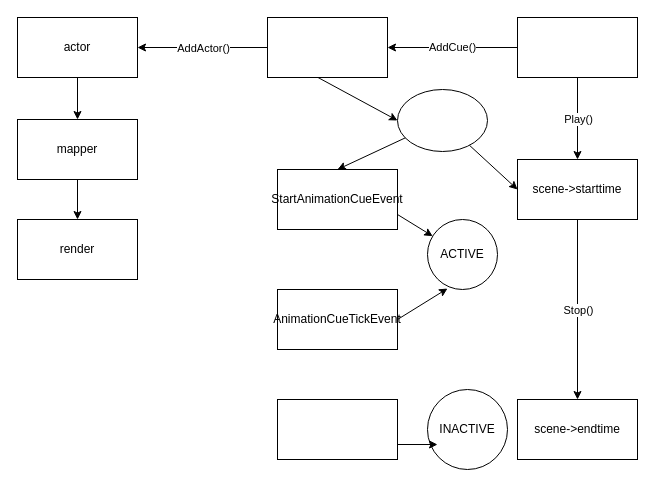
Image size: 655x487. Some labels were removed from this diagram. The centre of each missing label's shape, as x and y in pixels:
"cue" belongs at [327,47].
"EndAnimationCueEvent" belongs at [337,429].
"scene" belongs at [577,47].
"UNINITIALIZED" belongs at [442,120].
